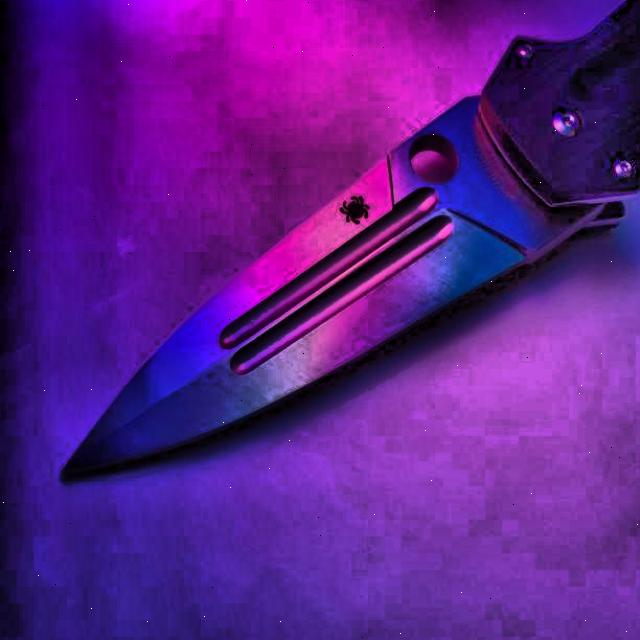knife: (60, 0, 640, 490)
